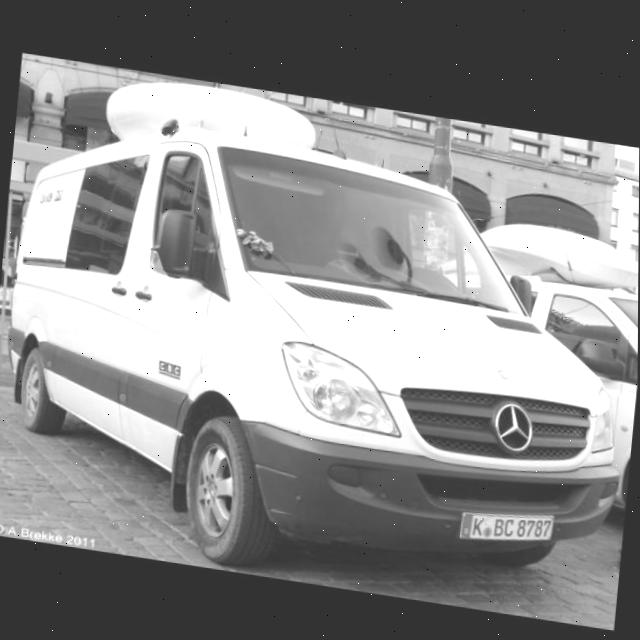license-plates: (461, 513, 554, 542)
